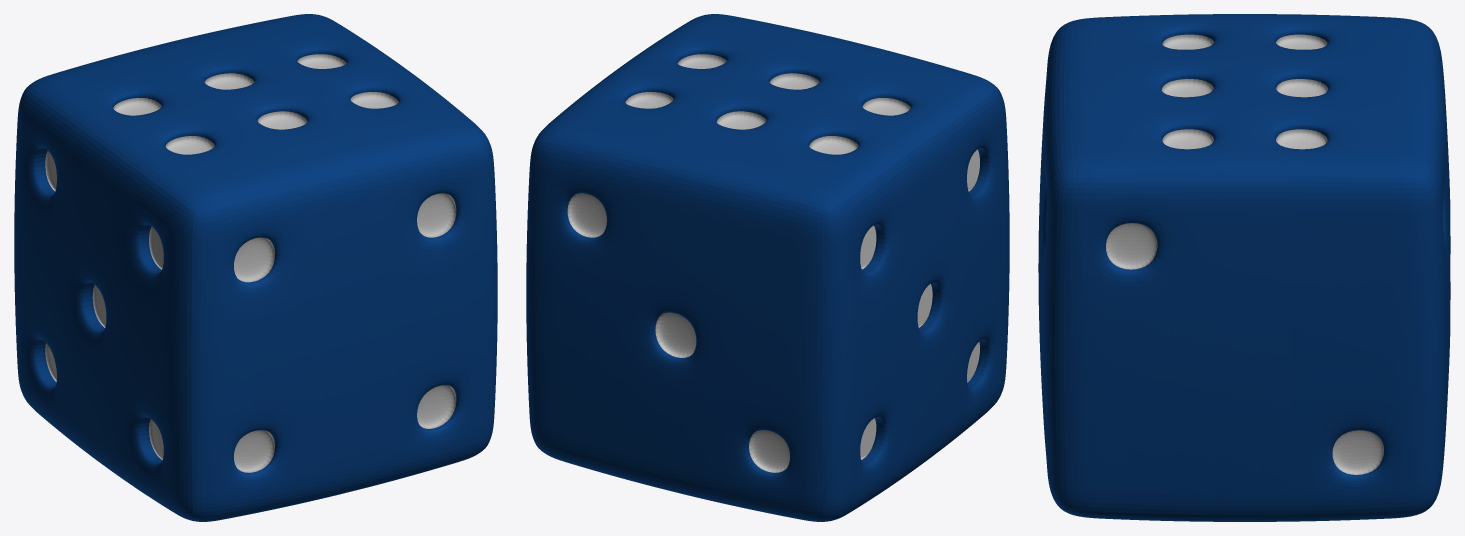
The model's file is dadoAzul.fbx.
3 renders of one model, left to right at view 1: azimuth 30°, elevation 25°; view 2: azimuth 150°, elevation 25°; view 3: azimuth 270°, elevation 25°, orthographic. The views are drawn at different scales.
Visible parts, largest first — view 1: Dado2; view 2: Dado2; view 3: Dado2.
Part boxes in pixels (x1,y1,x2,y2): Dado2: [14, 14, 497, 521]; Dado2: [526, 14, 1009, 521]; Dado2: [1038, 14, 1450, 521].
Size of the model in its own units: 212 by 212 by 212.
